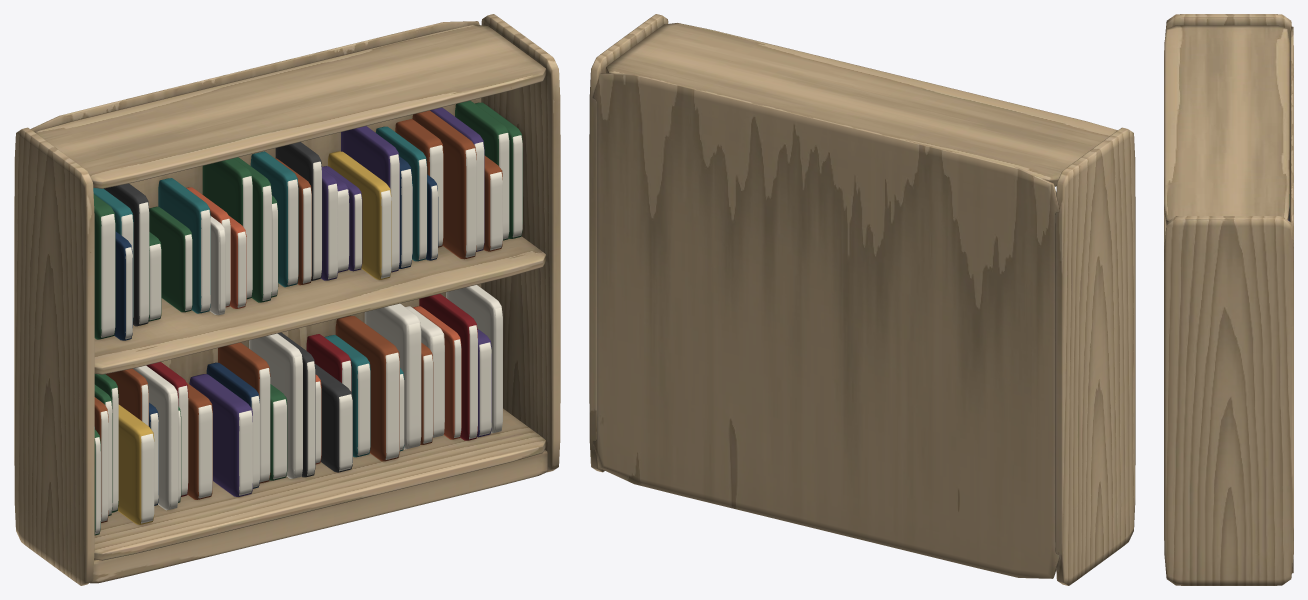
The model's file is ash-low.glb.
The picture shows the model from 3 angles, left to right: view 1: azimuth 30°, elevation 25°; view 2: azimuth 150°, elevation 25°; view 3: azimuth 270°, elevation 25°; orthographic projection. The views are drawn at different scales.
Visible parts, largest first — view 1: wood_x, wood_v, book_pages, book_8a4a2c, book_2f5a3a, book_e7e0d0, book_4a3a6a, book_2c6a6a, book_3b3b3b, book_c8a24a, book_7a1f24, book_1f3550 (+1 smaller); view 2: wood_v, wood_x; view 3: wood_v, wood_x.
Boxes of the visible parts, bbox=[...] form: wood_x: bbox=[35, 24, 547, 583]; wood_v: bbox=[14, 14, 560, 585]; book_pages: bbox=[94, 133, 522, 534]; book_8a4a2c: bbox=[94, 110, 502, 522]; book_2f5a3a: bbox=[93, 100, 522, 535]; book_e7e0d0: bbox=[133, 216, 502, 510]; book_4a3a6a: bbox=[189, 107, 491, 496]; book_2c6a6a: bbox=[93, 126, 427, 457]; book_3b3b3b: bbox=[104, 142, 352, 477]; book_c8a24a: bbox=[118, 151, 391, 524]; book_7a1f24: bbox=[146, 294, 477, 496]; book_1f3550: bbox=[114, 156, 438, 505]; wood_v: bbox=[589, 14, 1135, 585]; wood_x: bbox=[606, 23, 1117, 186]; wood_v: bbox=[1164, 14, 1293, 585]; wood_x: bbox=[1164, 25, 1289, 260].
Bounding box in the file's own units: 1.2 × 1 × 0.32.
Materials: 13 (2 with a texture image).
